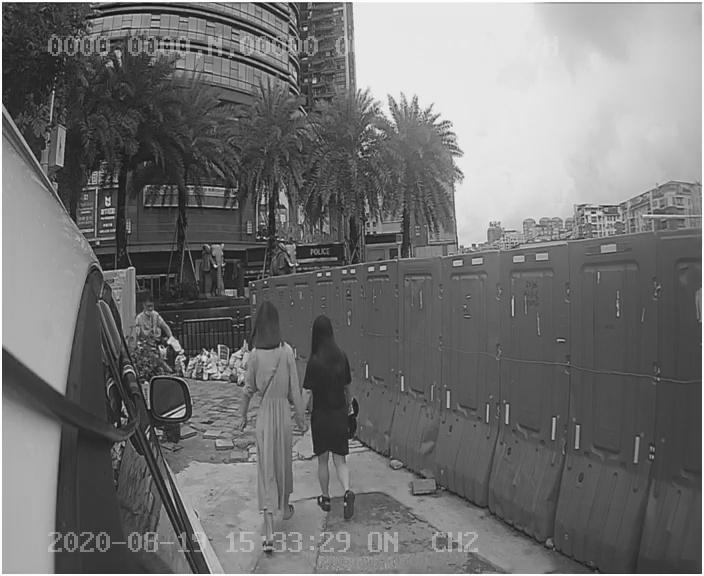person: (291, 308, 382, 515), (228, 298, 309, 527)
